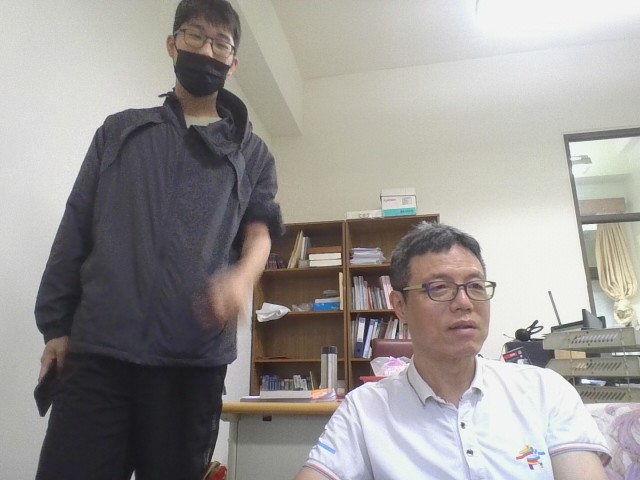No_Gloves: (33, 336, 69, 386)
No_Helmet: (384, 217, 500, 390), (162, 0, 243, 103)
person: (24, 1, 294, 478), (262, 201, 634, 480)
